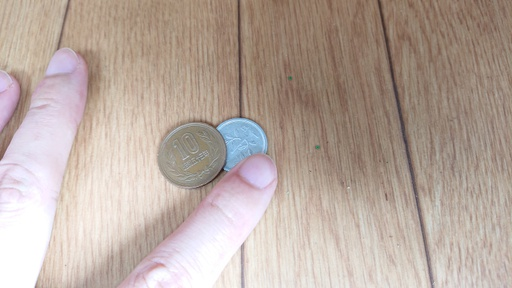10yen: (157, 122, 226, 188)
1yen: (212, 117, 267, 174)
